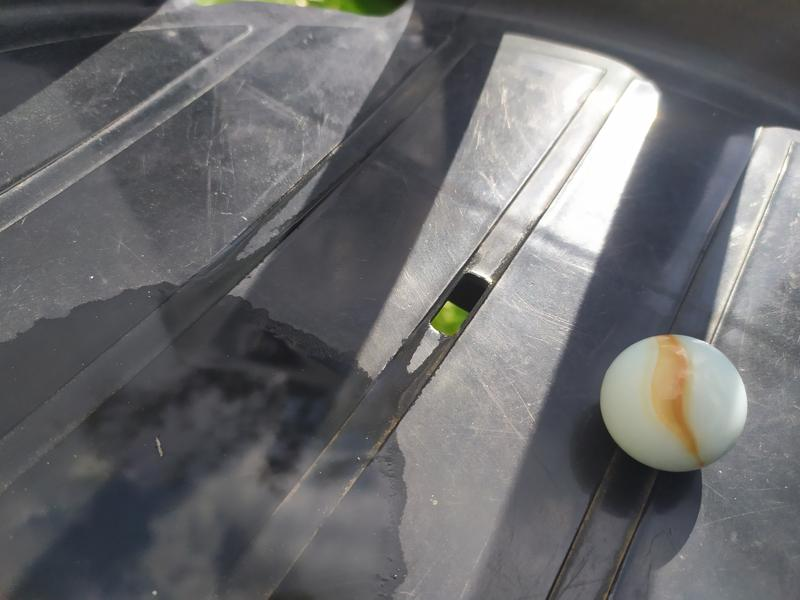Warning: (597, 332, 751, 476)
